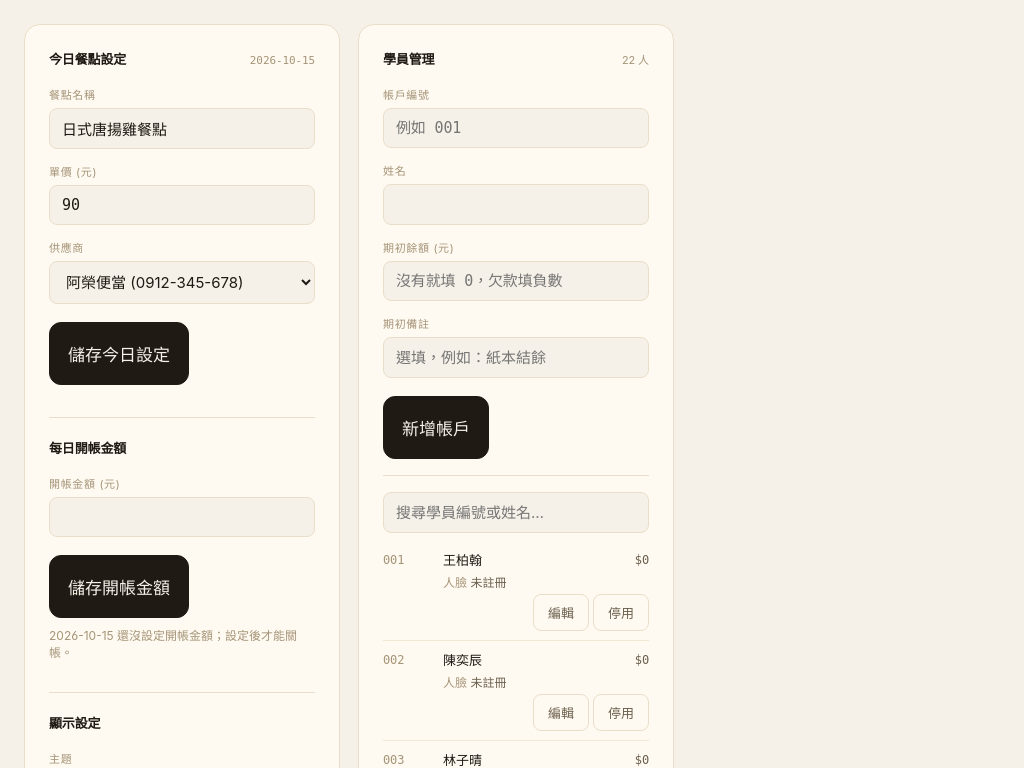
Test: AdminScreen Opening Cash Validation and Confirmation › cancels confirmation dialog without saving
In the field named "開帳金額": (182, 517) [49,497,315,537], type "3500"
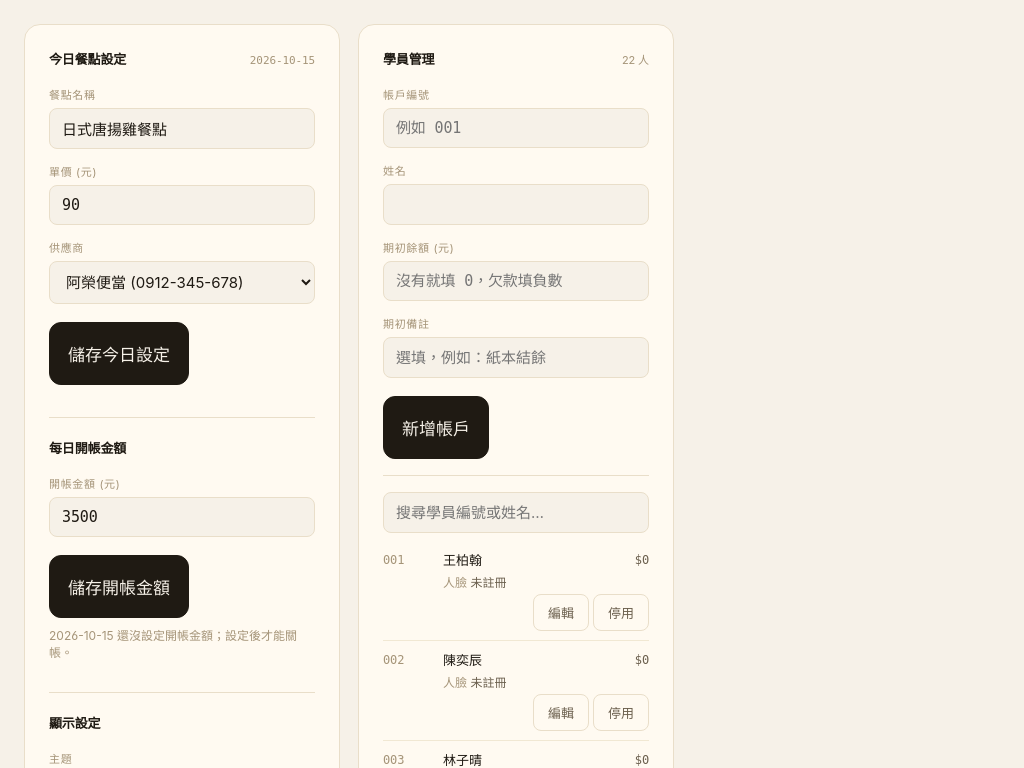
Click the button "儲存開帳金額": (119, 586) [49,555,189,618]
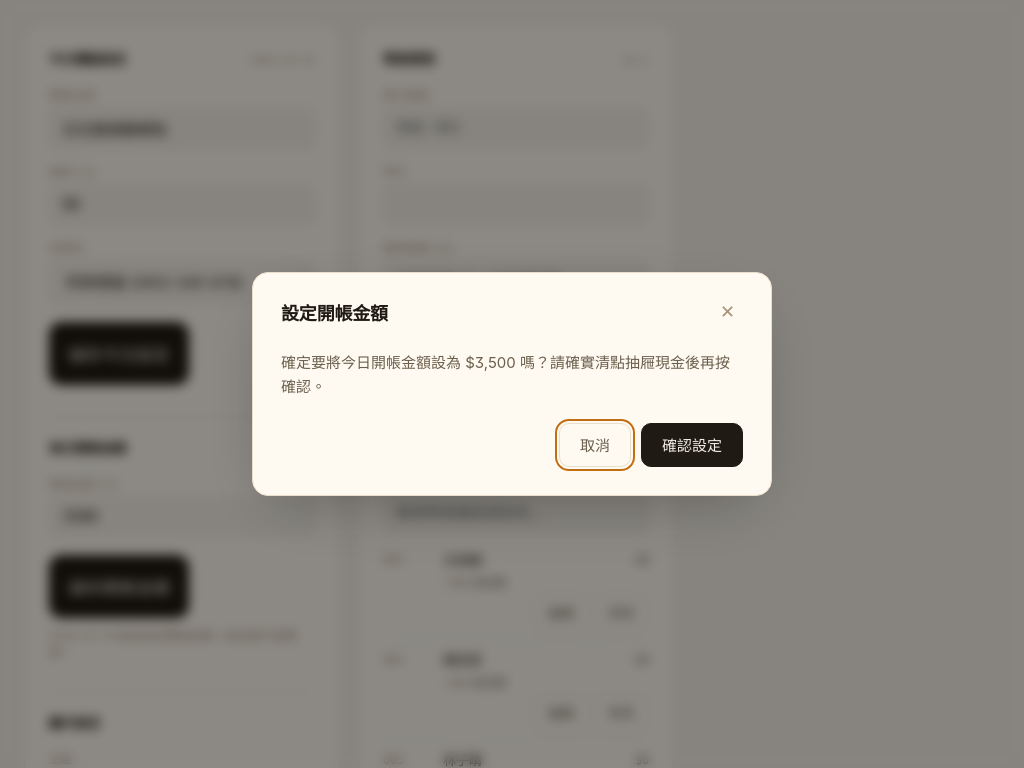
Check: the dialog is shown, box [252,272,772,496]
Click the button "取消": (595, 445) [559,423,631,467]
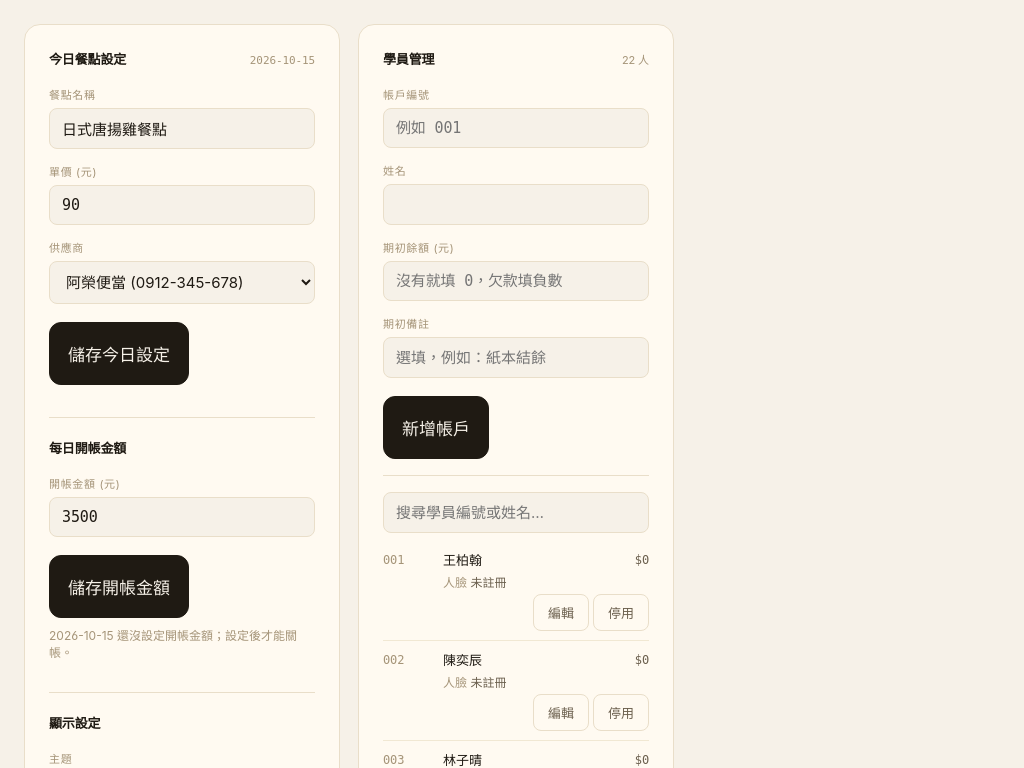
Check: the dialog is gone
